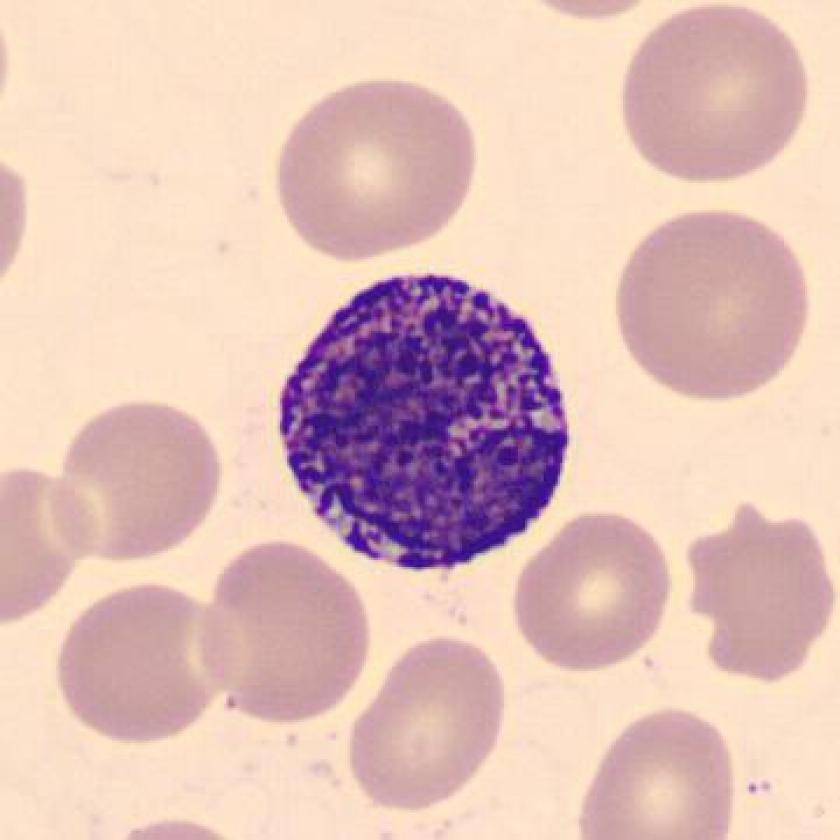basophil: (258, 263, 587, 577)
